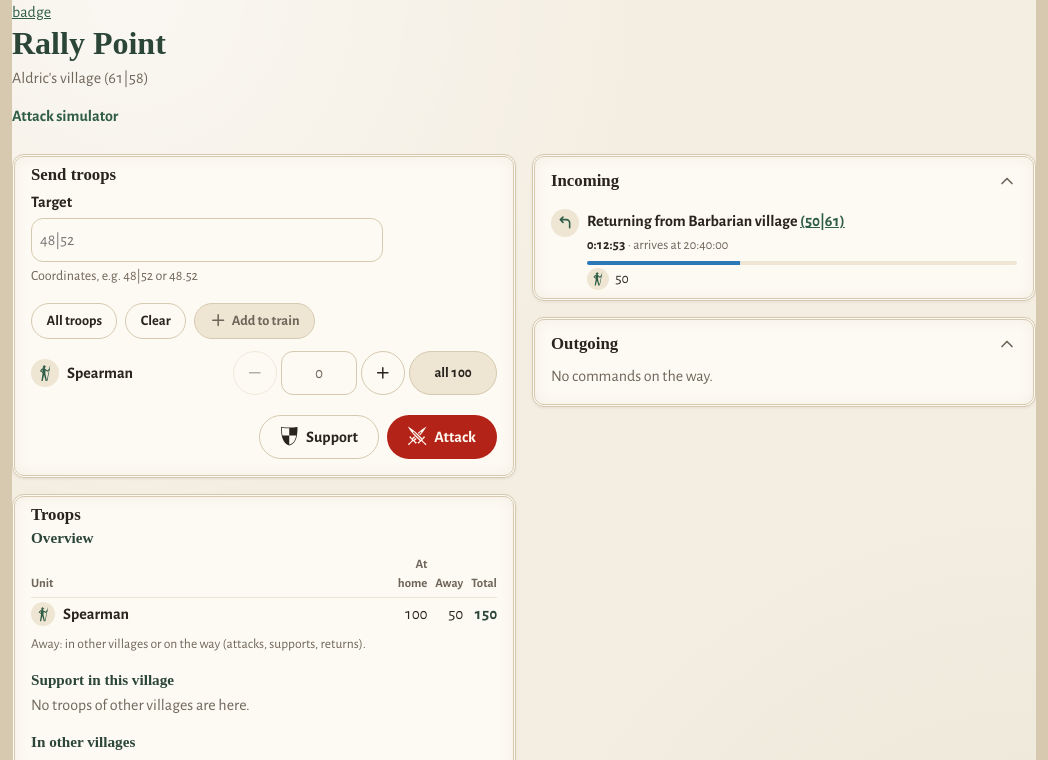
RallyPage › folding the movement cards (1.6.1) › folds a card by its title, leaves a count and remembers it on this device
This screenshot has width=1048, height=760.
Click the button "Incoming" at point(585, 181), box 535,157 -> 1033,201
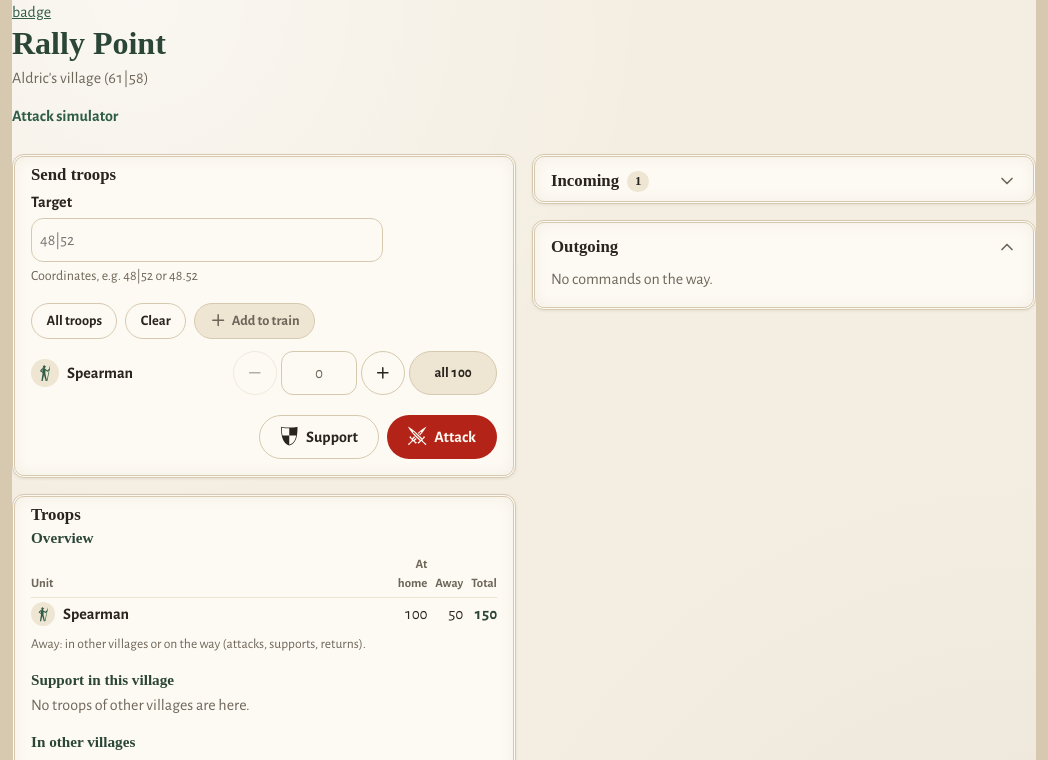
Expected: the button "Incoming 1" is collapsed
Expected: the button "Incoming 1" is shown
Click the button "Incoming 1" at point(585, 181), box 535,157 -> 1033,201
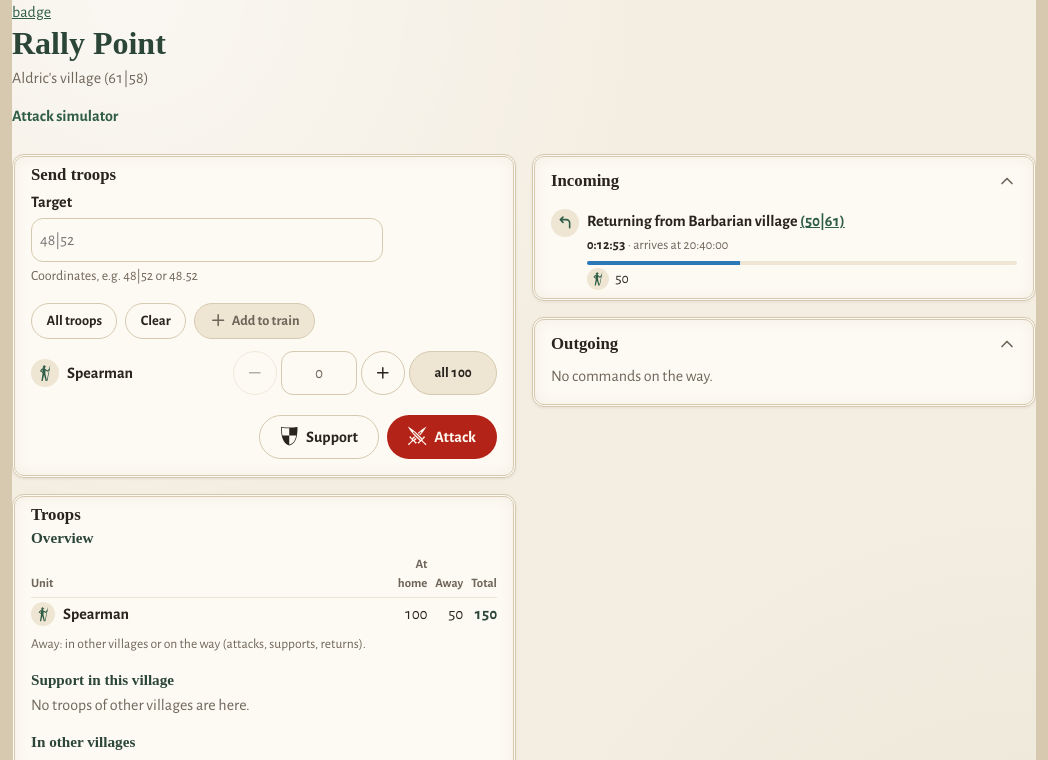
Expected: the button "Incoming" is expanded, 535,157 -> 1033,201
